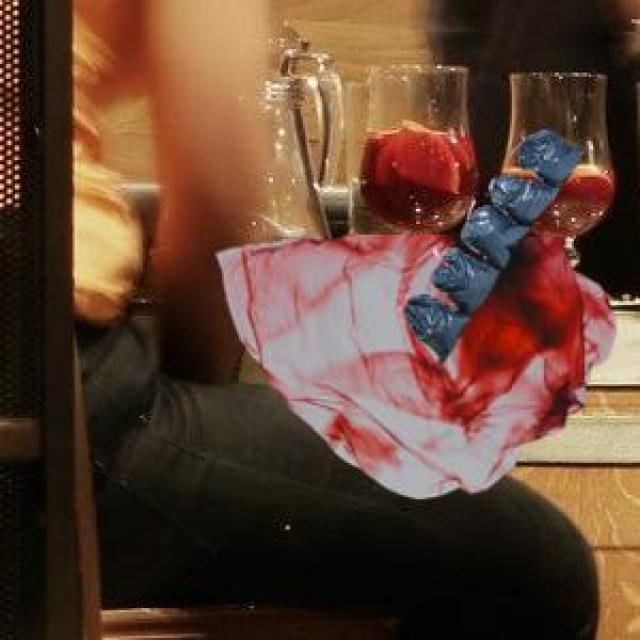miscellaneous trash: (401, 126, 579, 363)
